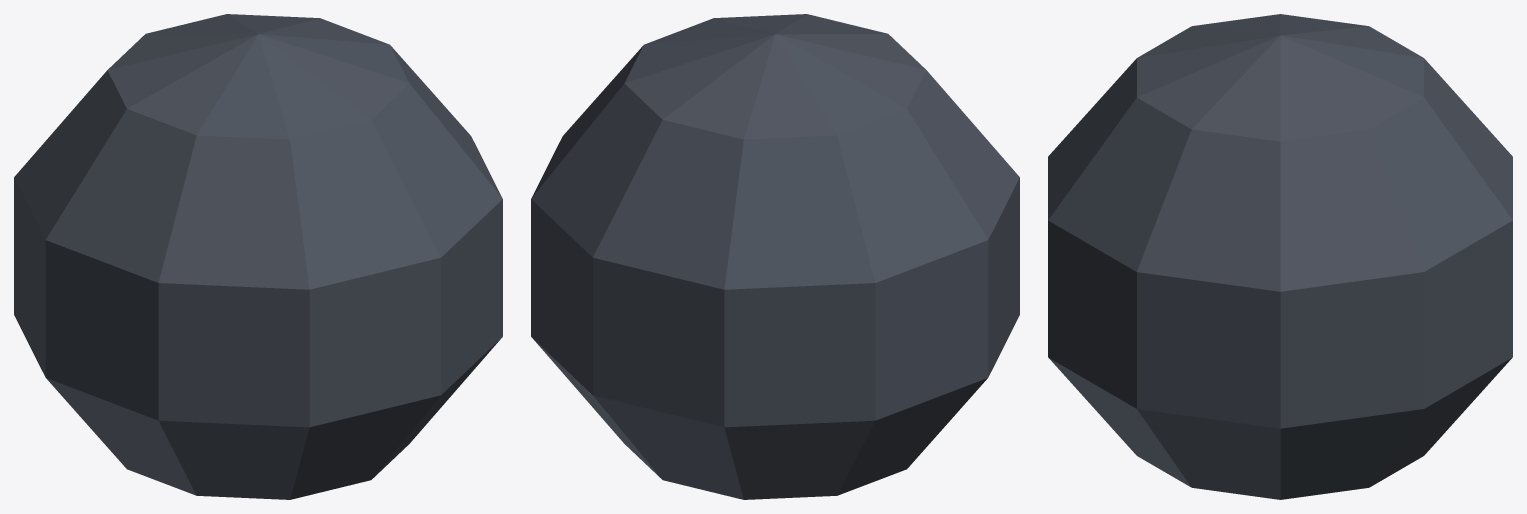
The model's file is Ceres.gltf.
The picture shows the model from 3 angles, left to right: view 1: azimuth 30°, elevation 25°; view 2: azimuth 150°, elevation 25°; view 3: azimuth 270°, elevation 25°; orthographic projection.
Visible parts, largest first — view 1: sphere; view 2: sphere; view 3: sphere.
Part boxes in pixels (left/top/right/bottom): sphere: left=14, top=14, right=502, bottom=499; sphere: left=531, top=14, right=1019, bottom=499; sphere: left=1048, top=14, right=1512, bottom=499.
Size of the model in its own units: 0.1875 by 0.1875 by 0.1783.
Materials: 1 (1 with a texture image).
